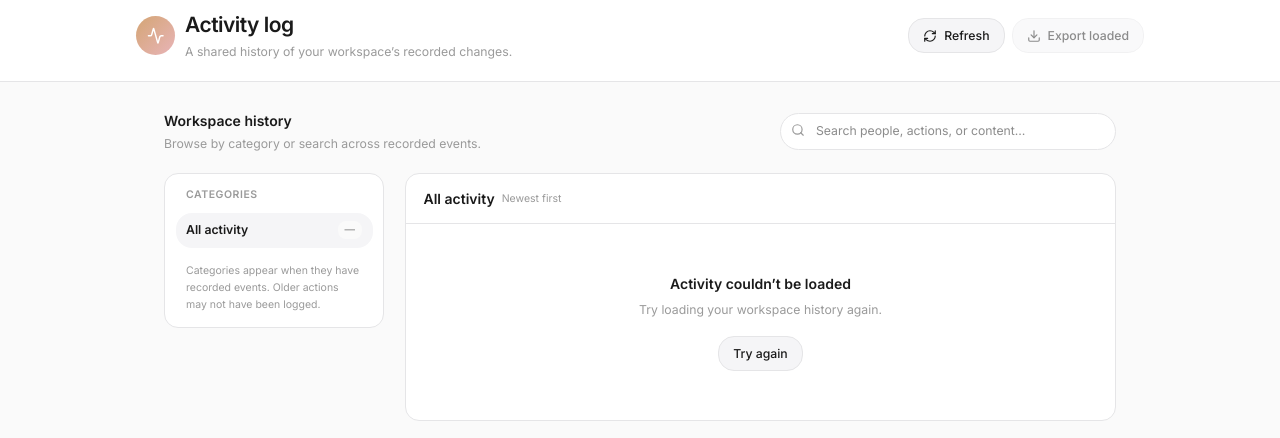
Test: Activity page › shows an initial error rather than empty history and retries successfully
The image size is (1280, 438).
expect the message shows "Activity couldn’t be loaded": met, box 670,275 -> 851,292
Click the button "Try again". click: (760, 354)
box: 718,336 -> 803,371
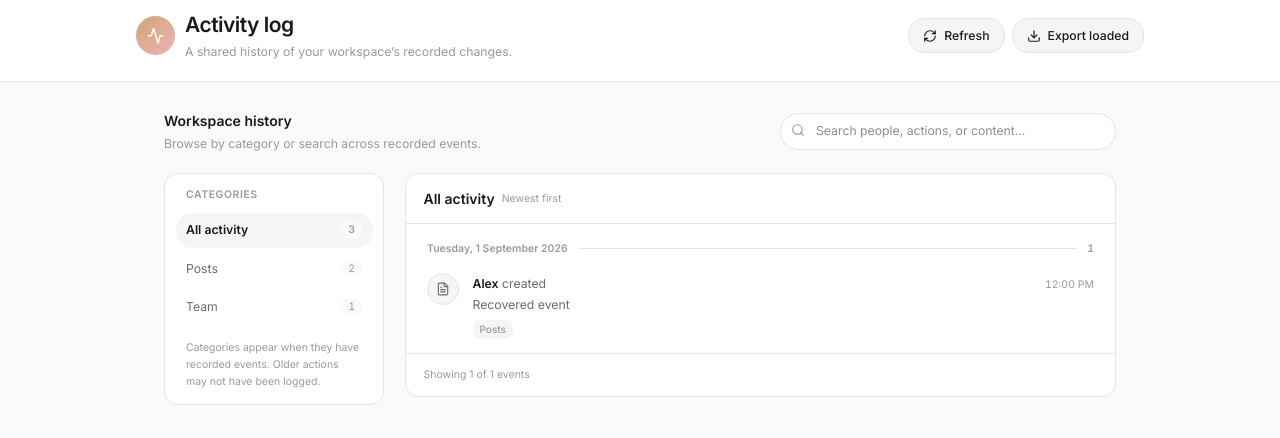
expect the text "Recovered event" is shown: met, box 472,297 -> 570,312
